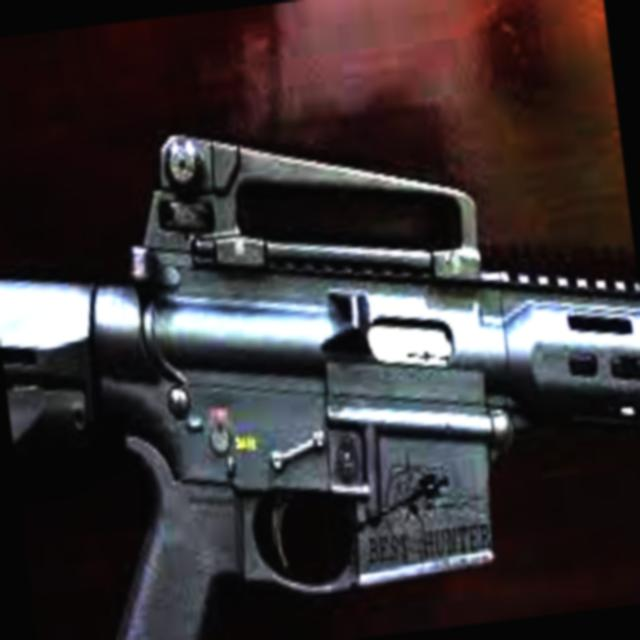m16: (12, 56, 606, 640)
